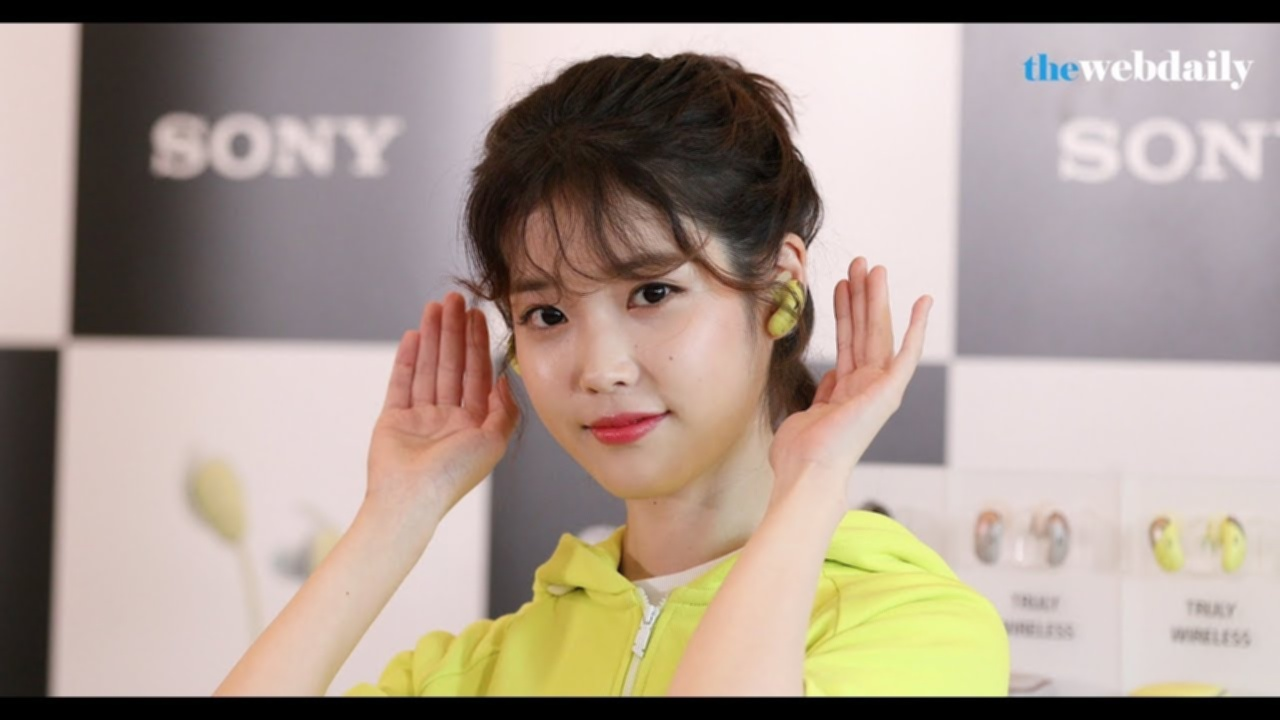earphone: (760, 233, 809, 339)
